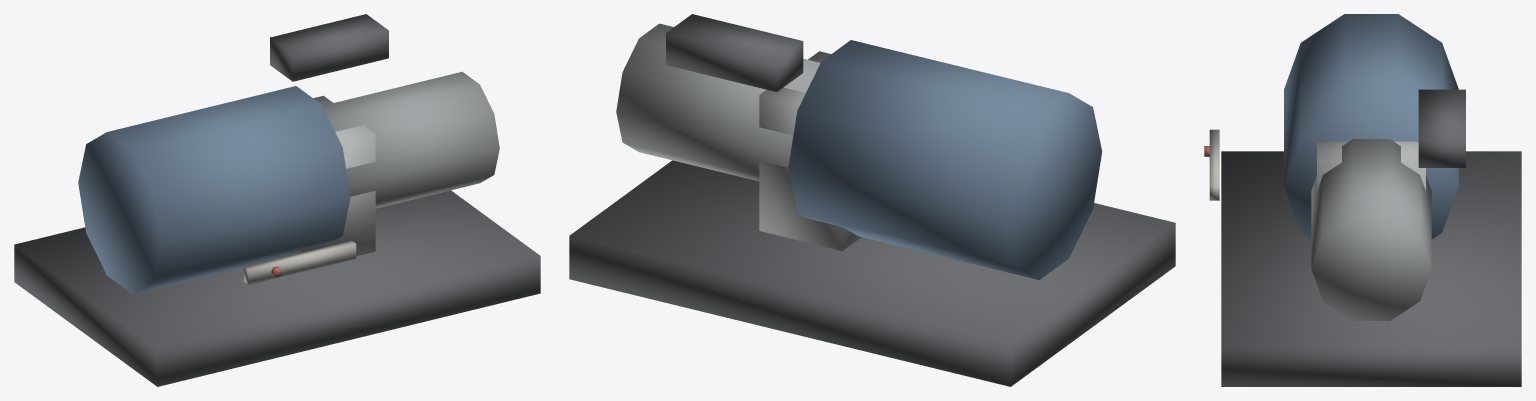
File: pump_skid__service.glb
3 renders of one model, left to right at view 1: azimuth 30°, elevation 25°; view 2: azimuth 150°, elevation 25°; view 3: azimuth 270°, elevation 25°, orthographic. The views are drawn at different scales.
Parts seen in each view (by area): view 1: world; view 2: world; view 3: world.
Boxes of the visible parts, x1,y1,x2,y2 form: world: (14, 14, 540, 386); world: (569, 14, 1175, 386); world: (1204, 14, 1521, 386).
Size of the model in its own units: 0.855 by 0.4416 by 0.581.
